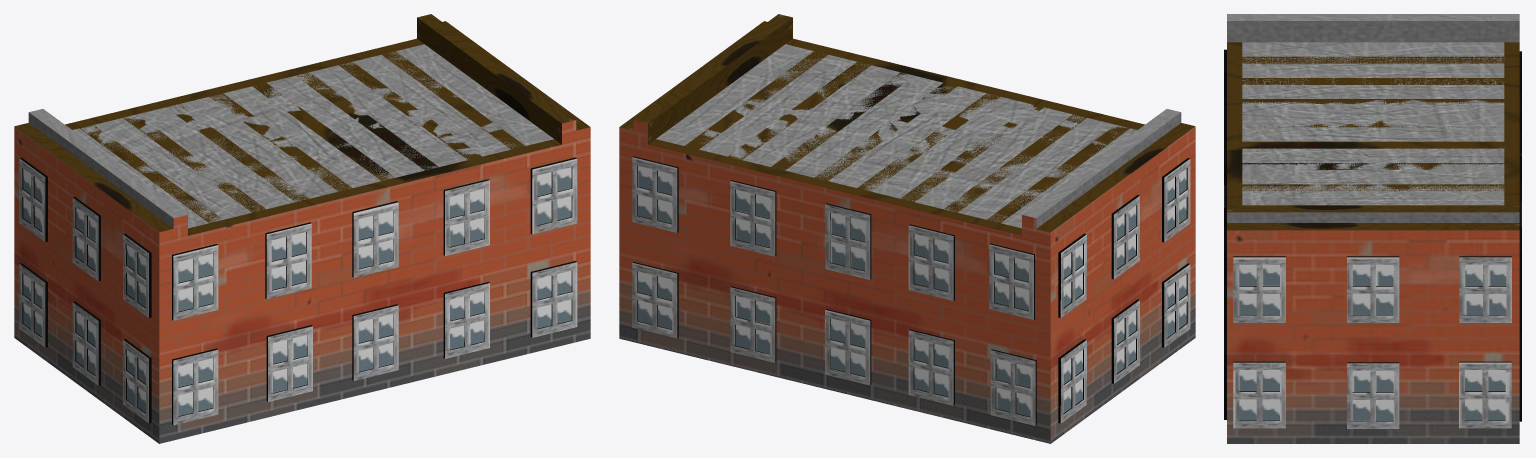
The model's file is 2nd Floor to Warehouse.FBX.
3 renders of one model, left to right at view 1: azimuth 30°, elevation 25°; view 2: azimuth 150°, elevation 25°; view 3: azimuth 270°, elevation 25°, orthographic.
Visible parts, largest first — view 1: Box003, Window 004, Window 003, Window 2, Window 006, Window 007, Window 008, Window 010, Box016, Window 005, Window 009, Window 028 (+5 smaller); view 2: Box003, Window 019, Window 020, Window 021, Window 022, Window 026, Window 018, Window 023, Window 024, Window 025, Window 017, Window 028 (+5 smaller); view 3: Box003, Window 012, Window 013, Window 011, Window 014, Window 015, Window 016.
Boxes of the visible parts, x1,y1,x2,y2 form: Box003: (14, 14, 590, 443); Window 004: (530, 157, 577, 234); Window 003: (530, 261, 577, 337); Window 2: (172, 348, 218, 425); Window 006: (352, 304, 398, 380); Window 007: (265, 222, 311, 299); Window 008: (266, 325, 312, 401); Window 010: (443, 179, 489, 255); Box016: (172, 244, 218, 320); Window 005: (352, 201, 398, 277); Window 009: (443, 282, 489, 358); Window 028: (19, 263, 47, 347); Box003: (619, 14, 1195, 443); Window 019: (632, 262, 678, 338); Window 020: (990, 349, 1036, 425); Window 021: (825, 309, 871, 385); Window 022: (825, 203, 871, 279); Window 026: (908, 224, 954, 300); Window 018: (632, 156, 678, 232); Window 023: (730, 180, 776, 256); Window 024: (730, 286, 776, 362); Window 025: (908, 329, 954, 405); Window 017: (989, 243, 1034, 319); Window 028: (1058, 339, 1086, 423); Box003: (1227, 14, 1519, 443); Window 012: (1233, 361, 1285, 428); Window 013: (1459, 361, 1511, 428); Window 011: (1233, 256, 1285, 322); Window 014: (1459, 256, 1511, 322); Window 015: (1347, 256, 1399, 322); Window 016: (1347, 362, 1399, 428).
Bounding box in the file's own units: 303 × 147 × 177.
1 material, 1 textured.
